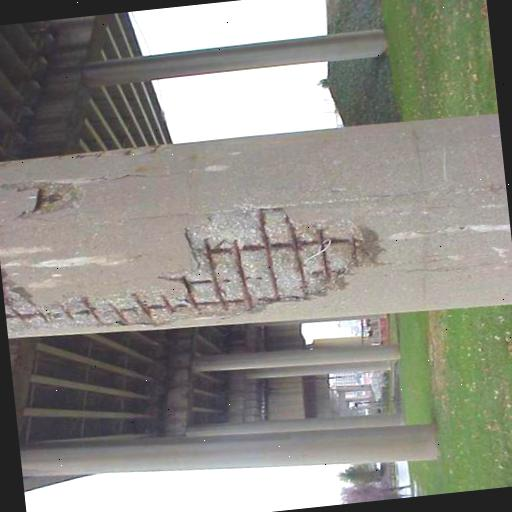spalling: (2, 210, 360, 333), (7, 179, 81, 215)
